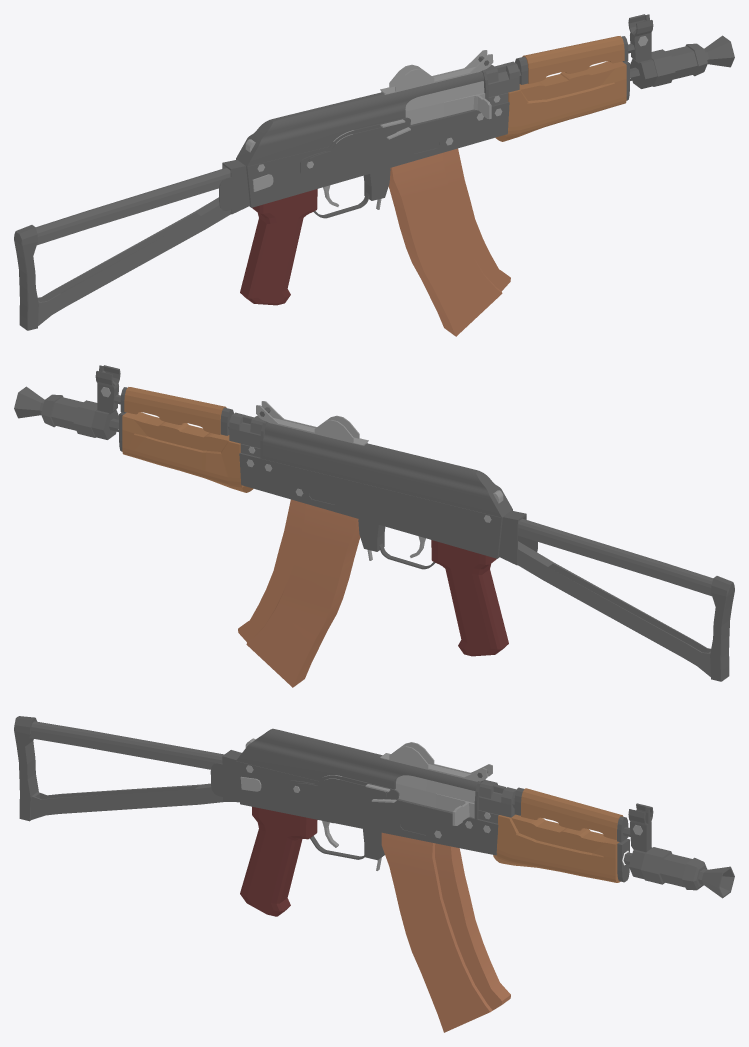
3 renders of one model, top to bottom at view 1: azimuth 30°, elevation 25°; view 2: azimuth 150°, elevation 25°; view 3: azimuth 330°, elevation 25°, orthographic.
Visible parts, largest first — view 1: Cube.004, Cube.008, Cube, Cube.001, Cube.011, Cube.003, Cube.010, Cylinder.010, Cube.005, Cube.020, Cube.009, Cylinder.007 (+4 smaller); view 2: Cube.004, Cube, Cube.001, Cube.008, Cube.011, Cube.003, Cube.010, Cylinder.010, Cube.009, Cylinder.007, Cube.017, Cube.015 (+2 smaller); view 3: Cube.004, Cube, Cube.008, Cube.001, Cube.011, Cube.003, Cylinder.010, Cube.010, Cube.005, Cube.020, Cube.009, Cube.017 (+4 smaller).
Boxes of the visible parts, left/top/right/bottom form: Cube.004: left=388, top=148, right=510, bottom=336; Cube.008: left=36, top=167, right=231, bottom=325; Cube: left=236, top=102, right=509, bottom=207; Cube.001: left=236, top=71, right=483, bottom=166; Cube.011: left=495, top=61, right=626, bottom=141; Cube.003: left=240, top=189, right=317, bottom=305; Cube.010: left=522, top=36, right=624, bottom=83; Cylinder.010: left=651, top=35, right=734, bottom=86; Cube.005: left=405, top=81, right=491, bottom=124; Cube.020: left=300, top=117, right=410, bottom=174; Cube.009: left=14, top=225, right=38, bottom=330; Cylinder.007: left=628, top=14, right=657, bottom=88; Cube.004: left=238, top=499, right=360, bottom=687; Cube: left=239, top=453, right=512, bottom=558; Cube.001: left=263, top=422, right=512, bottom=517; Cube.008: left=517, top=518, right=712, bottom=676; Cube.011: left=122, top=412, right=253, bottom=492; Cube.003: left=431, top=540, right=508, bottom=656; Cube.010: left=124, top=387, right=226, bottom=434; Cylinder.010: left=14, top=386, right=97, bottom=437; Cube.009: left=710, top=576, right=734, bottom=681; Cylinder.007: left=91, top=365, right=120, bottom=439; Cube.017: left=256, top=401, right=368, bottom=445; Cube.015: left=229, top=412, right=263, bottom=457; Cube.004: left=381, top=832, right=510, bottom=1032; Cube: left=236, top=761, right=498, bottom=855; Cube.008: left=29, top=721, right=224, bottom=819; Cube.001: left=236, top=728, right=478, bottom=818; Cube.011: left=493, top=814, right=620, bottom=882; Cube.003: left=240, top=806, right=317, bottom=916; Cylinder.010: left=641, top=847, right=734, bottom=898; Cube.010: left=521, top=788, right=623, bottom=839; Cube.005: left=395, top=775, right=475, bottom=825; Cube.020: left=288, top=775, right=399, bottom=802; Cube.009: left=14, top=716, right=38, bottom=821; Cube.017: left=380, top=742, right=492, bottom=781.
Size of the model in its own units: 4.82 by 1.78 by 0.3159.
